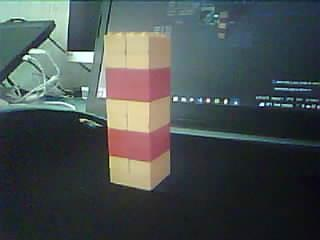lego: (104, 32, 171, 192)
